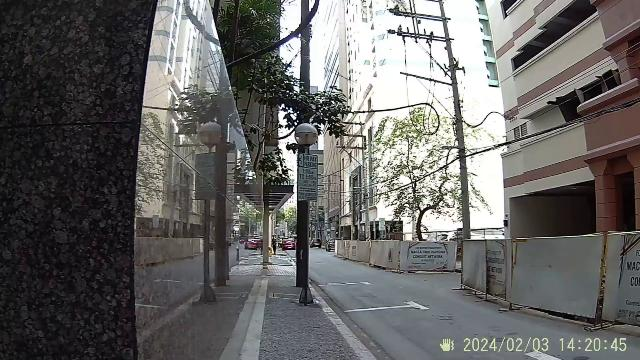lamp_post: (290, 125, 320, 287)
